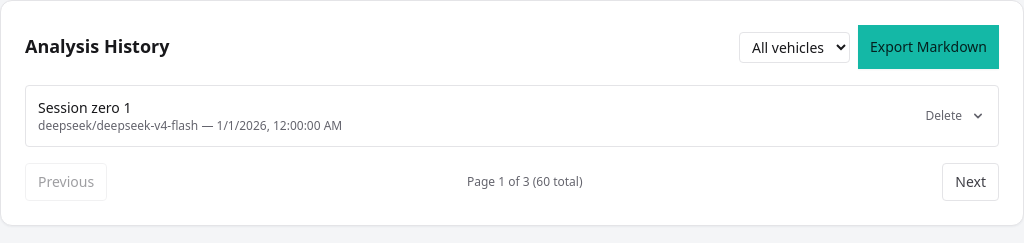
AnalysisHistory data layer (jsdom) › keeps page 3 when a stale page-1 response resolves afterwards
Expected: the text "Session zero 1" is shown, [38,98,132,117]
What coordinates should you click on to do the following:
click the button "Next"
I would click on:
 (971, 182)
Its box is [942,163,999,201].
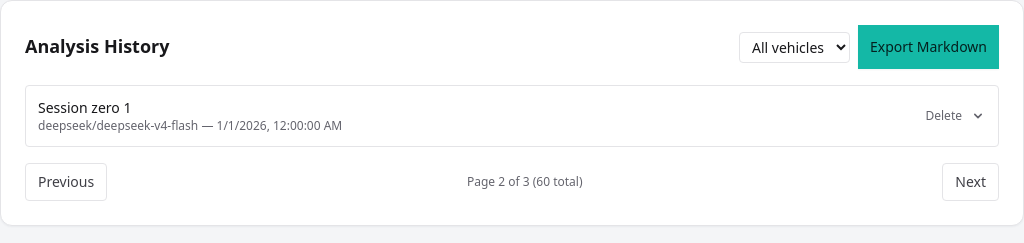
What coordinates should you click on to do the following:
click the button "Next"
I would click on:
 (971, 182)
Its box is [942,163,999,201].
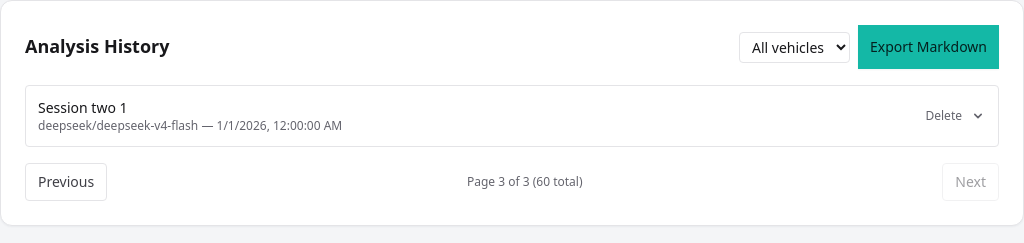
Expected: the text "Page 3 of 3 (60 total)" is shown, [467,174,582,190]
Expected: the text "Session two 1" is shown, [38,98,128,117]
Expected: the heading "Session zero 1" is gone
